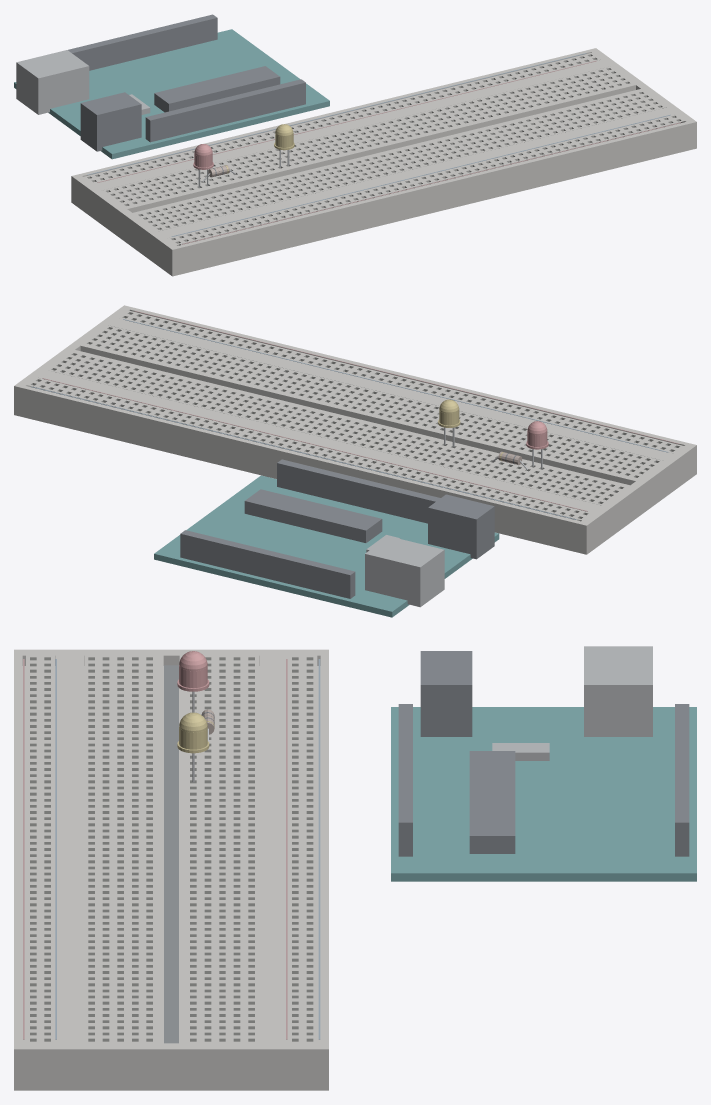
Rendered from step-5.glb.
3 views of the same model, one above another, from view 1: azimuth 30°, elevation 25°; view 2: azimuth 150°, elevation 25°; view 3: azimuth 270°, elevation 25° (orthographic). The views are drawn at different scales.
Parts seen in each view (by area): view 1: breadboard__mesh, uno__mesh, led_yellow__mesh, led_red__mesh; view 2: breadboard__mesh, uno__mesh, led_yellow__mesh, led_red__mesh; view 3: breadboard__mesh, uno__mesh, led_yellow__mesh, led_red__mesh.
Part boxes in pixels (x1=…): breadboard__mesh: x1=71, y1=48, x2=696, y2=276; uno__mesh: x1=14, y1=14, x2=329, y2=159; led_yellow__mesh: x1=274, y1=124, x2=294, y2=167; led_red__mesh: x1=193, y1=144, x2=213, y2=187; breadboard__mesh: x1=14, y1=305, x2=696, y2=554; uno__mesh: x1=154, y1=459, x2=499, y2=617; led_yellow__mesh: x1=438, y1=399, x2=460, y2=447; led_red__mesh: x1=526, y1=421, x2=548, y2=468; breadboard__mesh: x1=14, y1=649, x2=328, y2=1090; uno__mesh: x1=391, y1=646, x2=696, y2=881; led_yellow__mesh: x1=177, y1=712, x2=209, y2=782; led_red__mesh: x1=177, y1=651, x2=209, y2=712.
Bounding box in the file's own units: 0.165 × 0.0205 × 0.1192.
